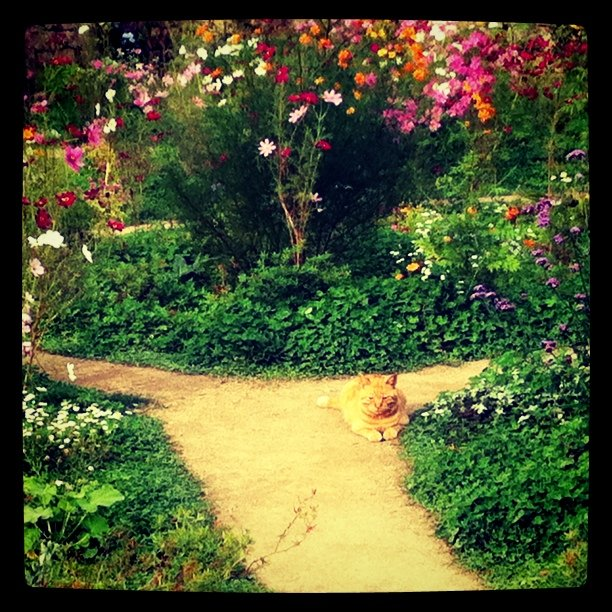animal: (334, 368, 414, 440)
flowers: (25, 1, 612, 228)
pathway: (58, 324, 501, 591)
vegetation: (38, 221, 589, 372), (1, 409, 197, 612), (428, 363, 608, 581)
